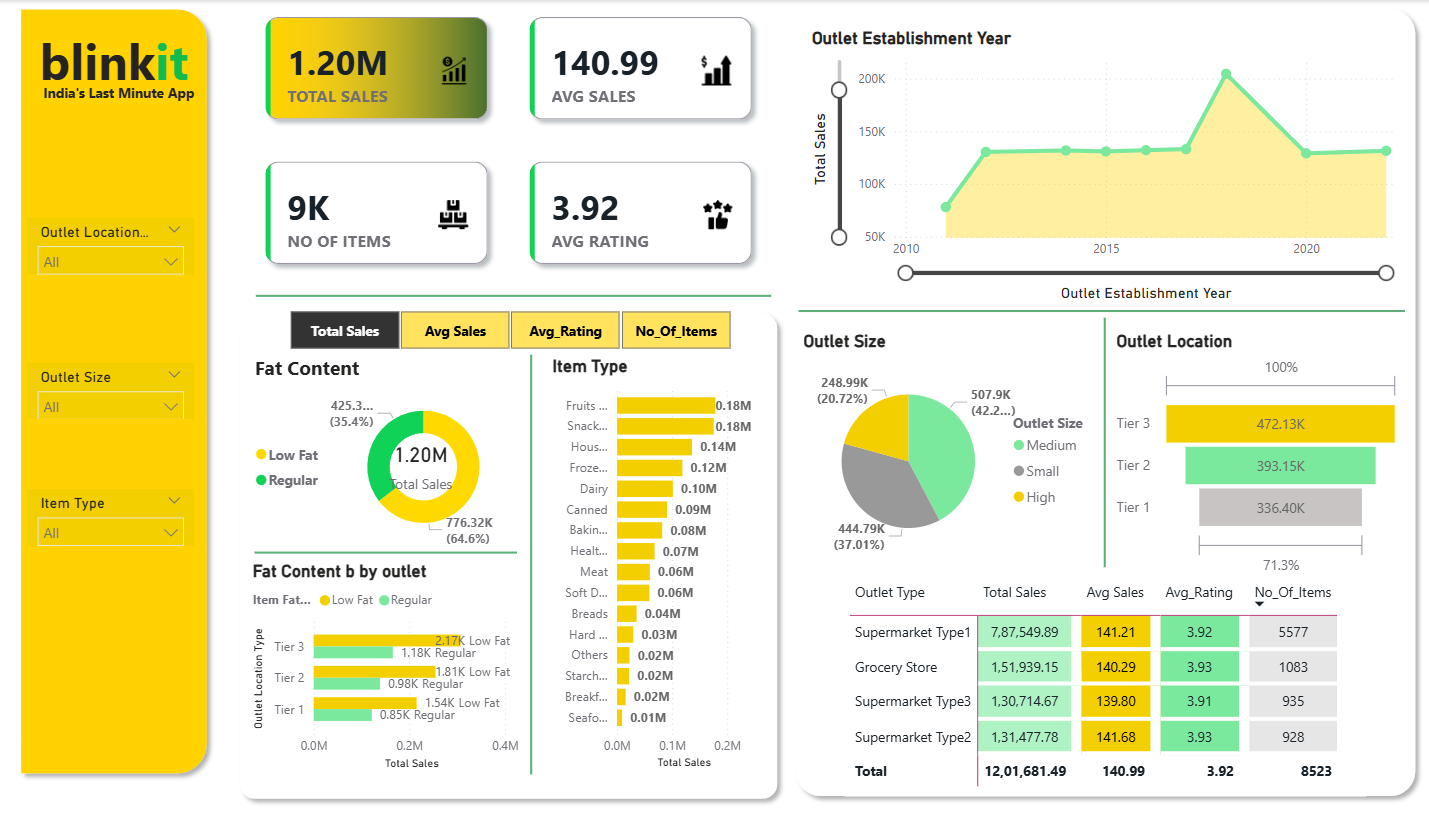

This screenshot's page, from the dashboard's own definition file:
{"tool":"powerbi","page":{"name":"Page 1","canvas":[1400,800],"ordinal":0},"visuals":[{"type":"shape","box":[11.1,0,199.4,764.4],"z":0},{"type":"textbox","box":[29.1,20.8,164.8,85.9],"z":1000},{"type":"textbox","box":[20.8,76.2,182.8,30.5],"z":2000},{"type":"cardVisual","fields":{"Data":["BlinkIT Grocery Data.Total Sales","BlinkIT Grocery Data.Avg Sales","BlinkIT Grocery Data.No_Of_Items","BlinkIT Grocery Data.Avg_Rating"]},"box":[241,4.2,511,285.3],"z":3000},{"type":"shape","box":[225.6,298.1,542.7,491.6],"z":4000},{"type":"slicer","fields":{"Values":["MATRICS.MATRICS"]},"box":[257.6,297.7,479.2,49.9],"z":5000},{"type":"donutChart","title":"Fat Content","fields":{"Y":["BlinkIT Grocery Data.Total Sales"],"Category":["BlinkIT Grocery Data.Item Fat Content"]},"box":[243.7,346.2,268.7,193.9],"z":6000},{"type":"card","fields":{"Values":["BlinkIT Grocery Data.Total Sales"]},"box":[364.2,422.4,94.2,62.3],"z":7000},{"type":"clusteredBarChart","title":" Fat Content b by outlet","fields":{"Y":["BlinkIT Grocery Data.Total Sales"],"Category":["BlinkIT Grocery Data.Outlet Location Type"],"Series":["BlinkIT Grocery Data.Item Fat Content"]},"box":[242.3,547,275.6,209.1],"z":8000},{"type":"barChart","title":" Item Type","fields":{"Y":["BlinkIT Grocery Data.Total Sales"],"Category":["BlinkIT Grocery Data.Item Type"]},"box":[534.4,347.9,218.5,408.5],"z":9000},{"type":"shape","box":[768.6,0,623.2,786.6],"z":10000},{"type":"lineChart","title":" Outlet Establishment Year","fields":{"Y":["BlinkIT Grocery Data.Total Sales"],"Category":["BlinkIT Grocery Data.Outlet Establishment Year"]},"box":[788,26.3,584.4,271.4],"z":11000},{"type":"pieChart","title":" Outlet Size","fields":{"Category":["BlinkIT Grocery Data.Outlet Size"],"Y":["BlinkIT Grocery Data.Total Sales"]},"box":[779.7,322.7,300.5,235.4],"z":12000},{"type":"shape","box":[512.4,346.2,12.5,409.9],"z":13000},{"type":"shape","box":[249.3,533.2,256.2,12.5],"z":14000},{"type":"shape","box":[1073.3,310.2,12.5,243.7],"z":15000},{"type":"funnel","title":" Outlet Location ","fields":{"Y":["BlinkIT Grocery Data.Total Sales"],"Category":["BlinkIT Grocery Data.Outlet Location Type"]},"box":[1085.7,322.7,286.7,243.7],"z":16000},{"type":"shape","box":[779.7,297.7,592.7,12.5],"z":17000},{"type":"pivotTable","fields":{"Rows":["BlinkIT Grocery Data.Outlet Type"],"Values":["BlinkIT Grocery Data.Total Sales","BlinkIT Grocery Data.Avg Sales","BlinkIT Grocery Data.Avg_Rating","BlinkIT Grocery Data.No_Of_Items"]},"box":[825.4,558.1,509.6,220.2],"z":18000},{"type":"shape","box":[249.4,282.6,503.5,13.1],"z":19000},{"type":"slicer","fields":{"Values":["BlinkIT Grocery Data.Outlet Location Type"]},"box":[27.3,212.6,162.7,55.8],"z":20000},{"type":"slicer","fields":{"Values":["BlinkIT Grocery Data.Outlet Size"]},"box":[27.3,355.1,162.7,54.6],"z":21000},{"type":"slicer","fields":{"Values":["BlinkIT Grocery Data.Item Type"]},"box":[27.3,477.4,162.7,55.8],"z":22000}]}

Visuals, with their boxes in screenshot pixels (x1, y1, x2, y2), scaled from the page's 1400x800 canvas onto the 1429x815 screenshot:
shape: <bbox>11, 0, 215, 779</bbox>
textbox: <bbox>30, 21, 198, 109</bbox>
textbox: <bbox>21, 78, 208, 109</bbox>
cardVisual - BlinkIT Grocery Data.Total Sales x BlinkIT Grocery Data.Avg Sales: <bbox>246, 4, 768, 295</bbox>
shape: <bbox>230, 304, 784, 805</bbox>
slicer - MATRICS.MATRICS: <bbox>263, 303, 752, 354</bbox>
"Fat Content" donutChart: <bbox>249, 353, 523, 550</bbox>
card - BlinkIT Grocery Data.Total Sales: <bbox>372, 430, 468, 494</bbox>
" Fat Content b by outlet" clusteredBarChart: <bbox>247, 557, 529, 770</bbox>
" Item Type" barChart: <bbox>545, 354, 768, 771</bbox>
shape: <bbox>785, 0, 1421, 801</bbox>
" Outlet Establishment Year" lineChart: <bbox>804, 27, 1401, 303</bbox>
" Outlet Size" pieChart: <bbox>796, 329, 1103, 569</bbox>
shape: <bbox>523, 353, 536, 770</bbox>
shape: <bbox>254, 543, 516, 556</bbox>
shape: <bbox>1096, 316, 1108, 564</bbox>
" Outlet Location " funnel: <bbox>1108, 329, 1401, 577</bbox>
shape: <bbox>796, 303, 1401, 316</bbox>
pivotTable - BlinkIT Grocery Data.Outlet Type x BlinkIT Grocery Data.Total Sales: <bbox>842, 569, 1363, 793</bbox>
shape: <bbox>255, 288, 768, 301</bbox>
slicer - BlinkIT Grocery Data.Outlet Location Type: <bbox>28, 217, 194, 273</bbox>
slicer - BlinkIT Grocery Data.Outlet Size: <bbox>28, 362, 194, 417</bbox>
slicer - BlinkIT Grocery Data.Item Type: <bbox>28, 486, 194, 543</bbox>
